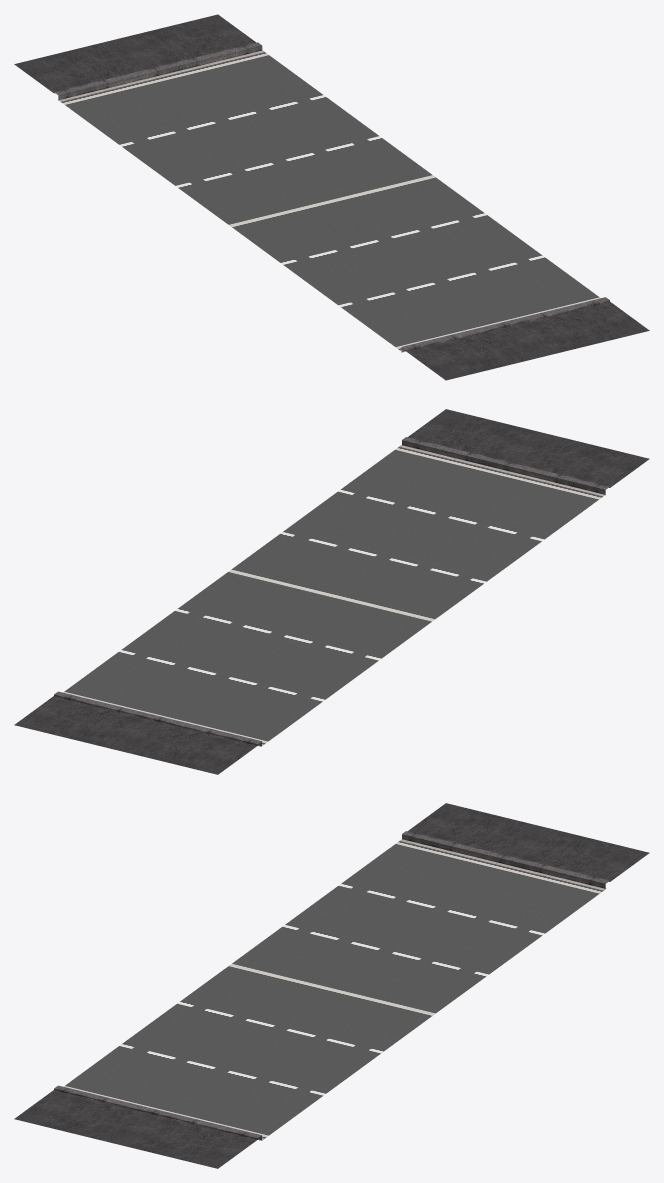
The model's file is 6 lines with footpath.FBX.
3 views of the same model, one above another, from view 1: azimuth 30°, elevation 25°; view 2: azimuth 150°, elevation 25°; view 3: azimuth 330°, elevation 25° (orthographic).
Visible parts, largest first — view 1: Object199; view 2: Object199; view 3: Object199.
Boxes of the visible parts, <box> form: Object199: <box>14,14,649,380</box>; Object199: <box>14,409,649,774</box>; Object199: <box>14,803,649,1168</box>.
Size of the model in its own units: 12.03 by 0.3184 by 43.99.
